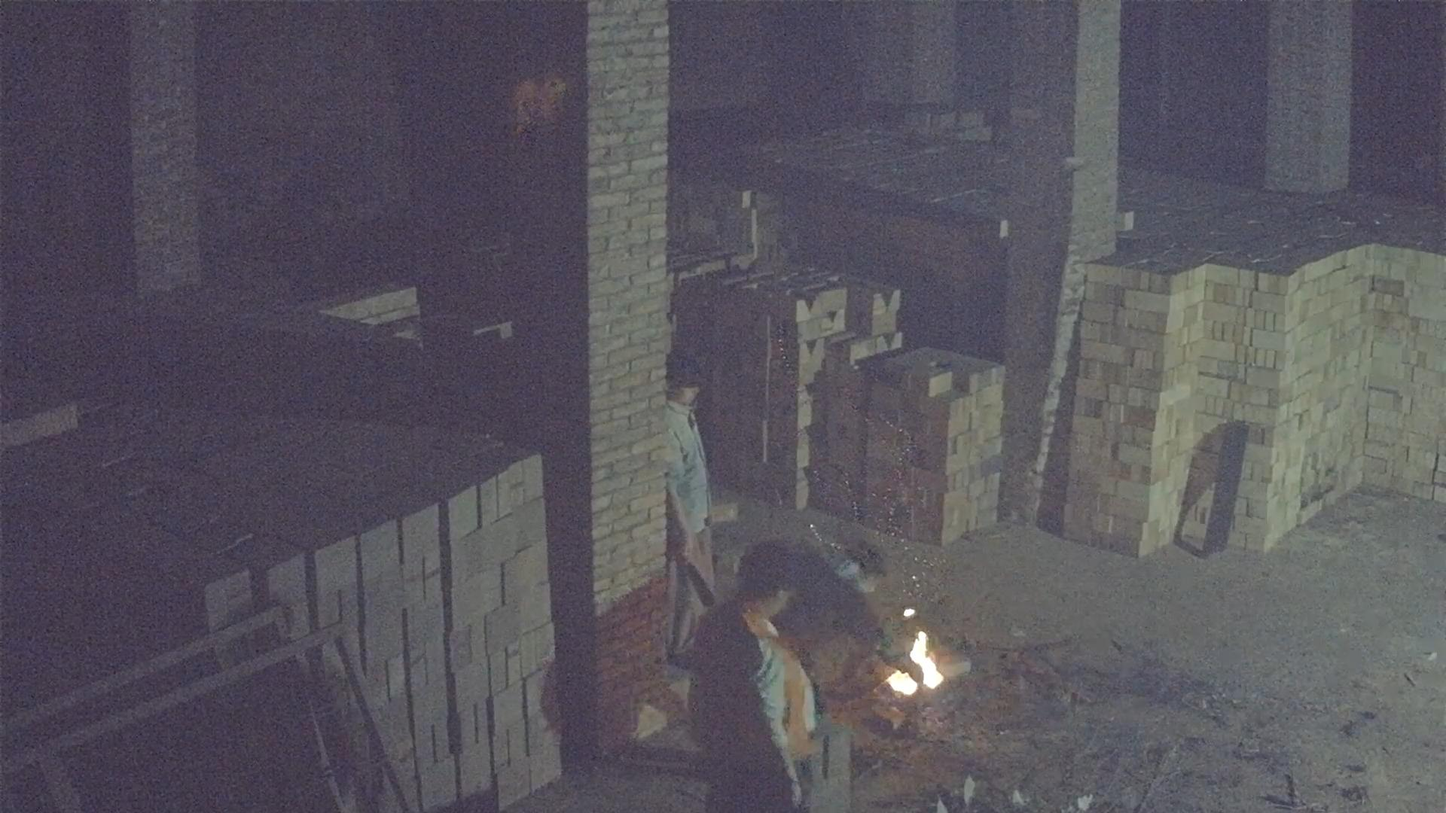fire: (910, 632, 944, 689), (886, 672, 914, 694)
